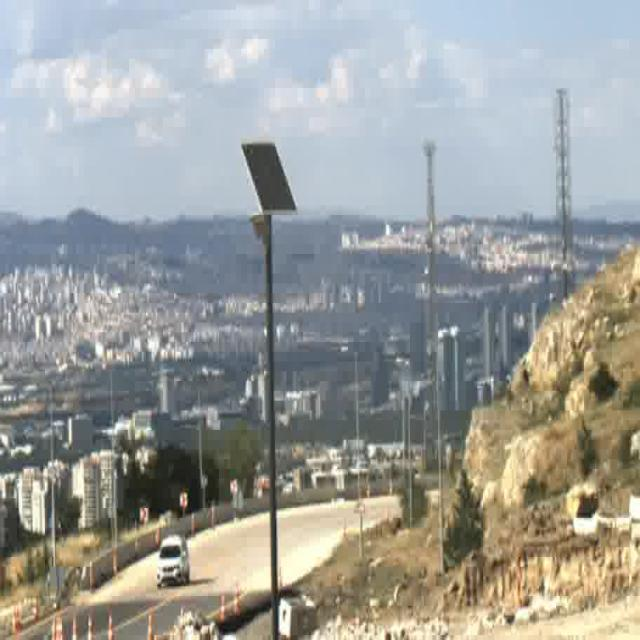Car: (157, 534, 190, 587)
